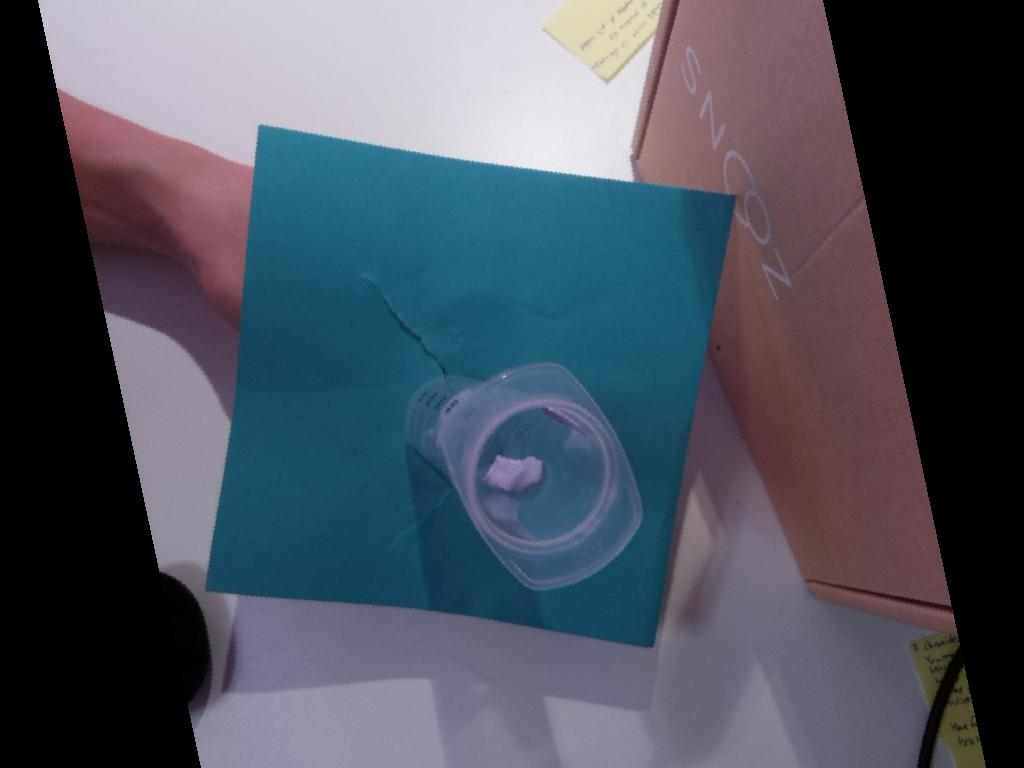dirty: (440, 363, 644, 590)
